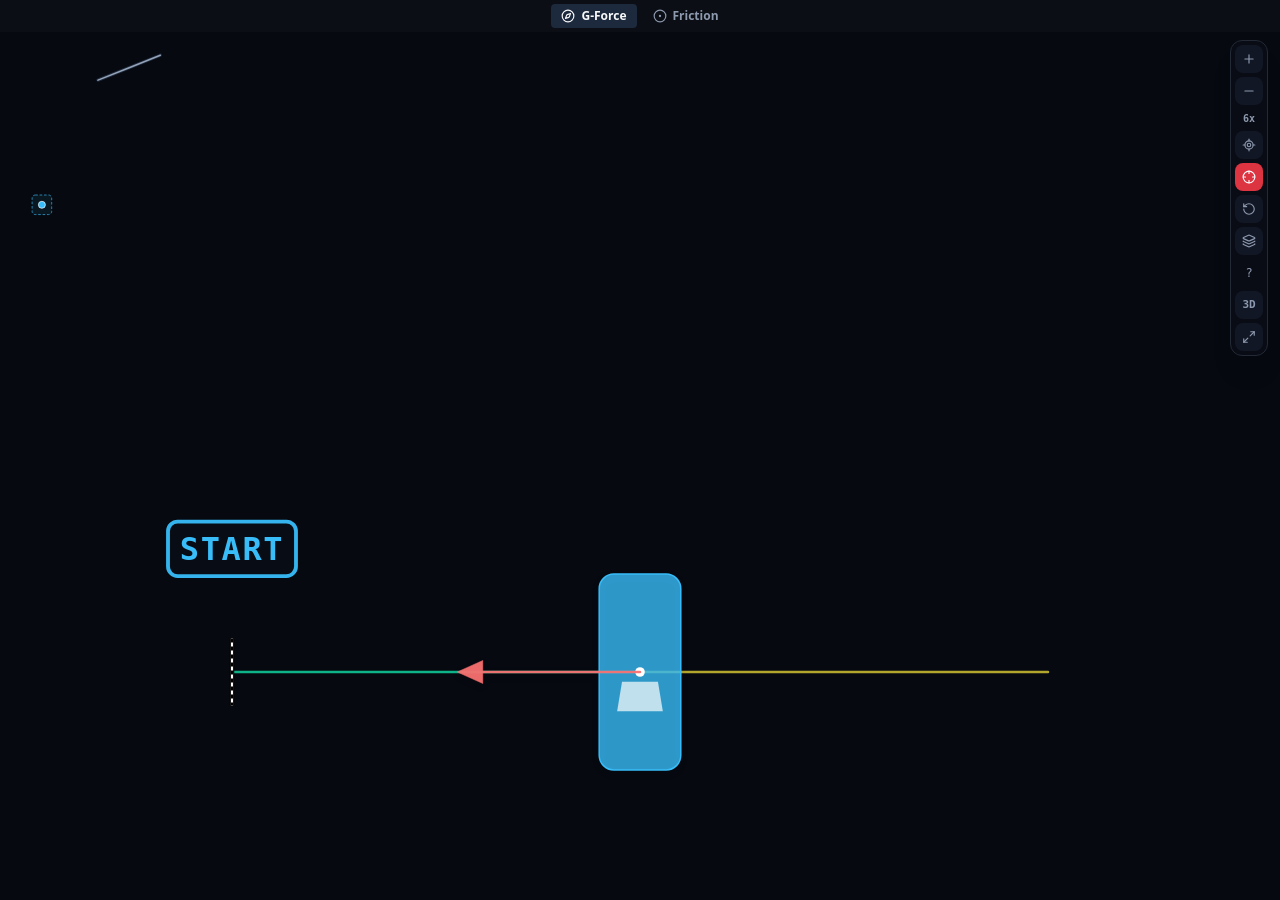
Test case: ReplayMapContainer › shows synchronized estimated grip utilization below the map
This screenshot has width=1280, height=900.
Click the button with aria-label "Show friction circle": x=686, y=16 [642,4,728,28]
(page scrolled)
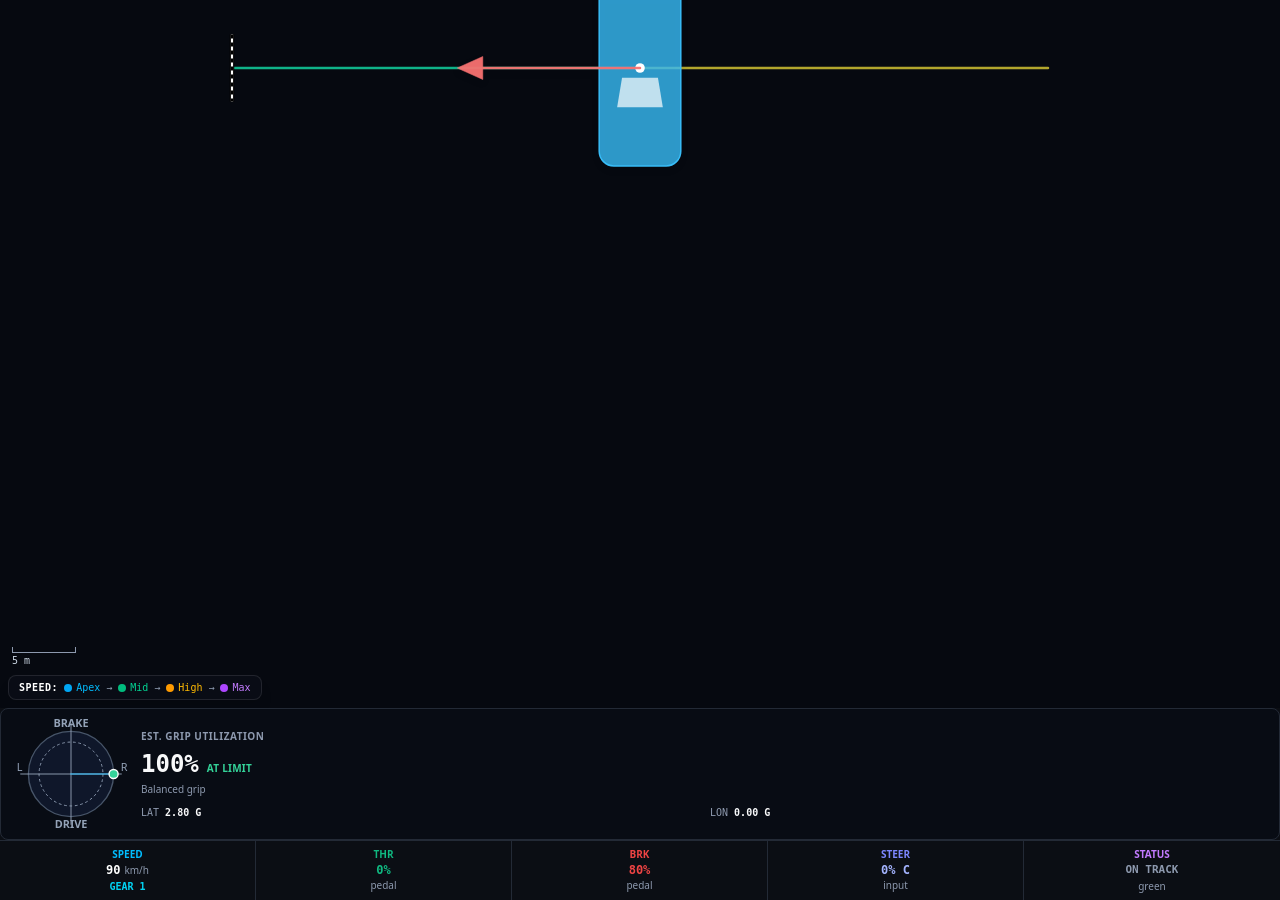
expect the element named "Estimated friction circle" shows "100%": met, box [141,750,199,778]
expect the element named "Estimated friction circle" shows "AT LIMIT": met, box [207,760,252,774]
